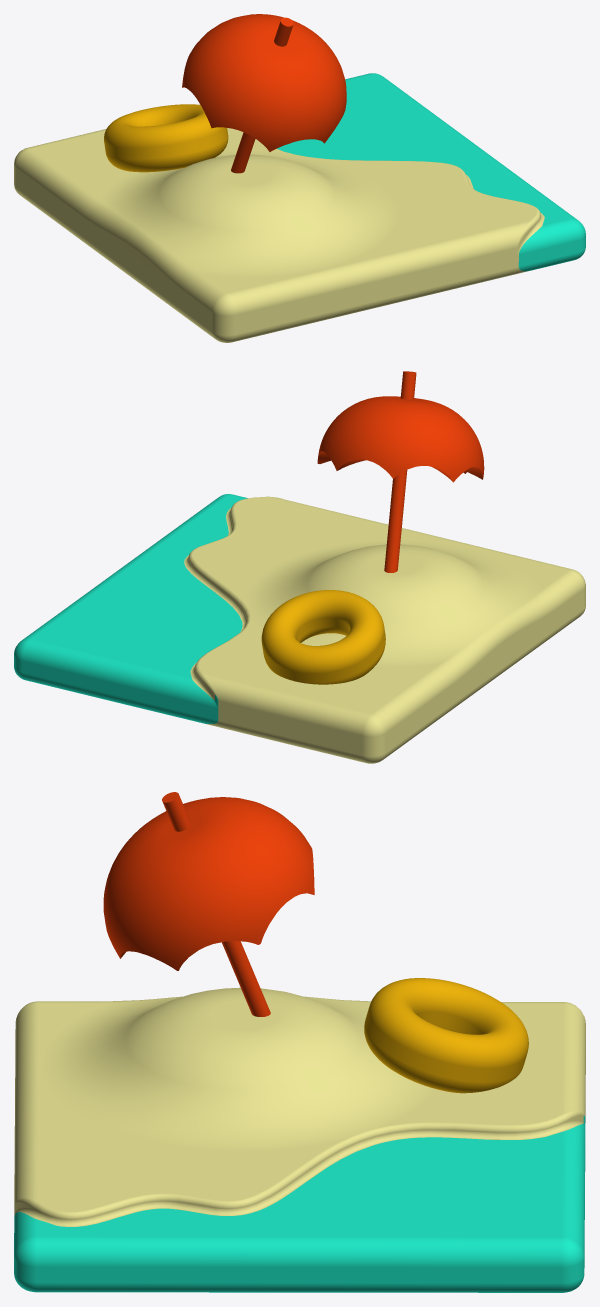
Rendered from bea.glb.
3 views of the same model, one above another, from view 1: azimuth 30°, elevation 25°; view 2: azimuth 150°, elevation 25°; view 3: azimuth 270°, elevation 25° (orthographic). The views are drawn at different scales.
Parts seen in each view (by area): view 1: Body87; view 2: Body87; view 3: Body87.
Boxes of the visible parts, box(x1,y1,x2,y2) form: Body87: box(14, 14, 585, 342); Body87: box(14, 371, 585, 763); Body87: box(14, 792, 585, 1292).
Size of the model in its own units: 0.0501 by 0.0332 by 0.0501.
